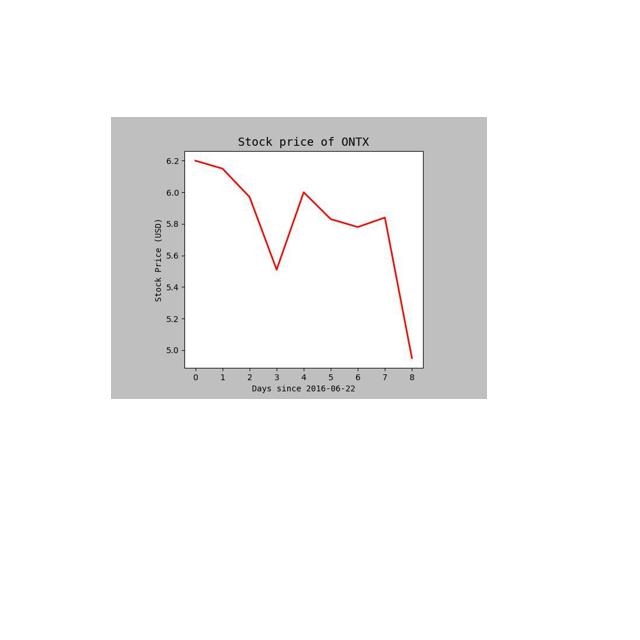Graph: (111, 117, 487, 399)
